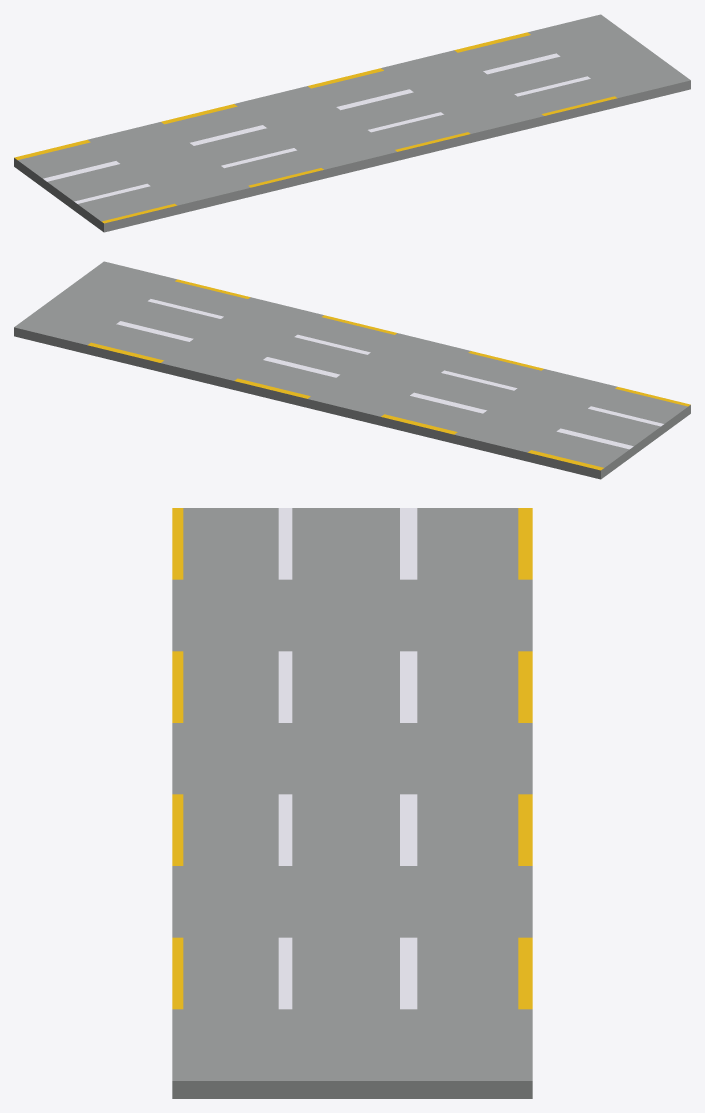
File: road2.fbx
3 renders of one model, top to bottom at view 1: azimuth 30°, elevation 25°; view 2: azimuth 150°, elevation 25°; view 3: azimuth 270°, elevation 25°, orthographic. The views are drawn at different scales.
Visible parts, largest first — view 1: Cube; view 2: Cube; view 3: Cube.
Part boxes in pixels (x1=…): Cube: x1=14, y1=14, x2=690, y2=232; Cube: x1=14, y1=261, x2=690, y2=479; Cube: x1=172, y1=508, x2=532, y2=1098.
Size of the model in its own units: 1198 by 17.62 by 318.
